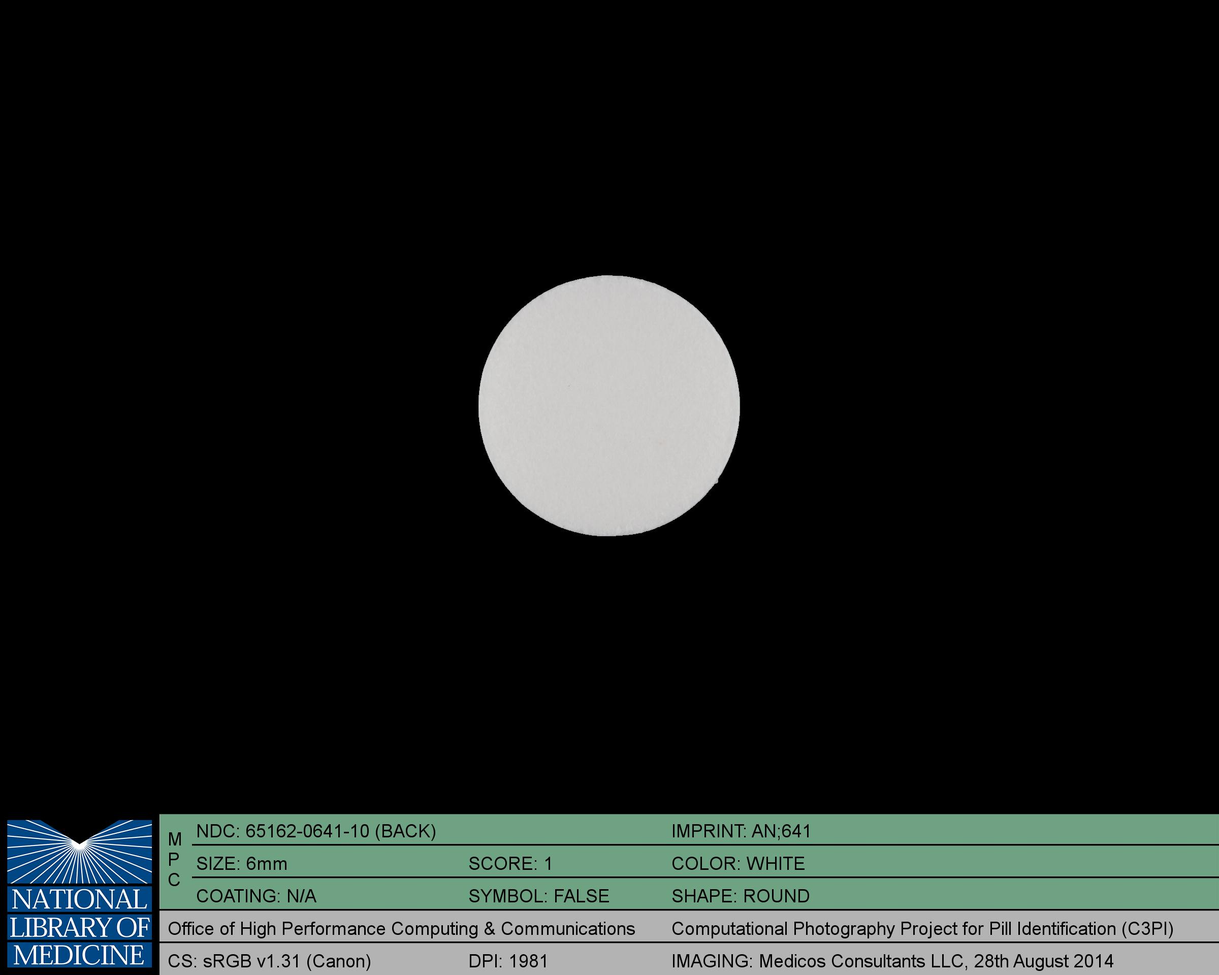Pill: (467, 264, 748, 548)
